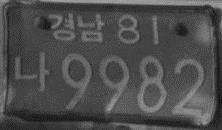1: (148, 13, 163, 45)
2: (172, 58, 206, 123)
8: (134, 54, 168, 114), (115, 12, 140, 44)
9: (98, 52, 132, 114), (60, 51, 94, 112)
경남_O: (47, 11, 105, 45)
나: (12, 48, 50, 93)
